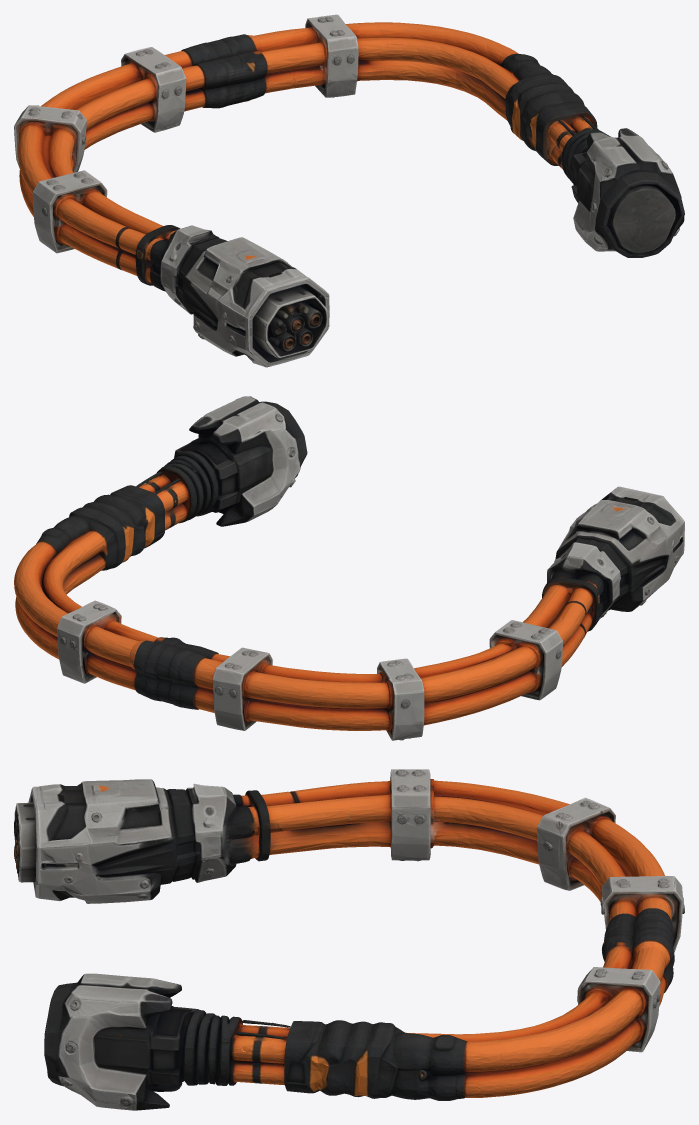
Rendered from harness.glb.
The picture shows the model from 3 angles, top to bottom: view 1: azimuth 30°, elevation 25°; view 2: azimuth 150°, elevation 25°; view 3: azimuth 270°, elevation 25°; orthographic projection. The views are drawn at different scales.
Size of the model in its own units: 0.9934 by 0.1847 by 1.
1 material, 1 textured.
